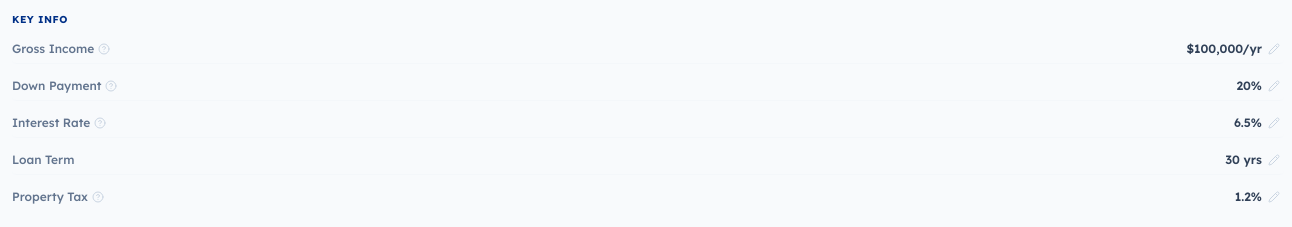
Test: Decimal Synchronization across Forms (TRID Regulations) › syncs Down Payment decimal correctly between CompactLivePreview and store
Note: Initially down payment is 20%
Click the text "20%": coordinates (1258, 86) [1236, 78, 1280, 93]
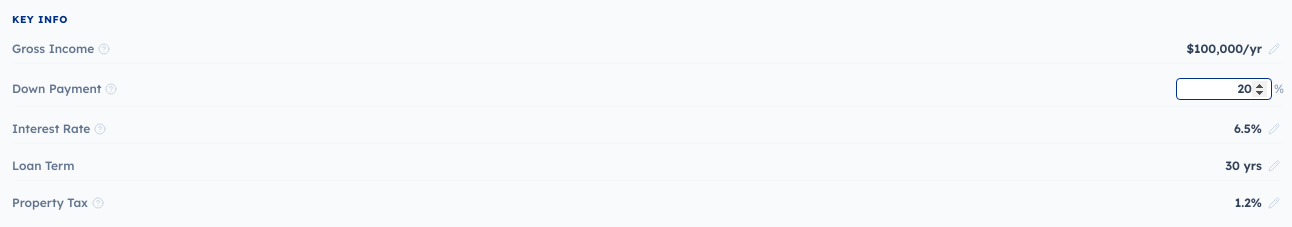
Replace the text in the number field with "3.5": coordinates (1224, 89) [1176, 78, 1272, 100]
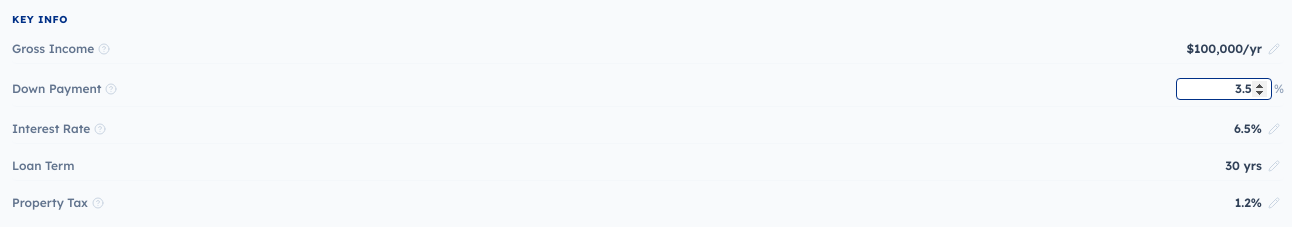
Leave the number field, box [1176, 78, 1272, 100]
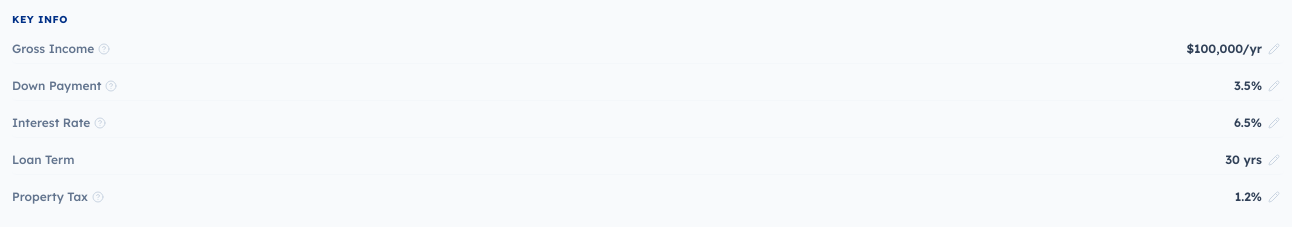
Expected: the text "3.5%" is shown, [1230, 78, 1284, 94]
